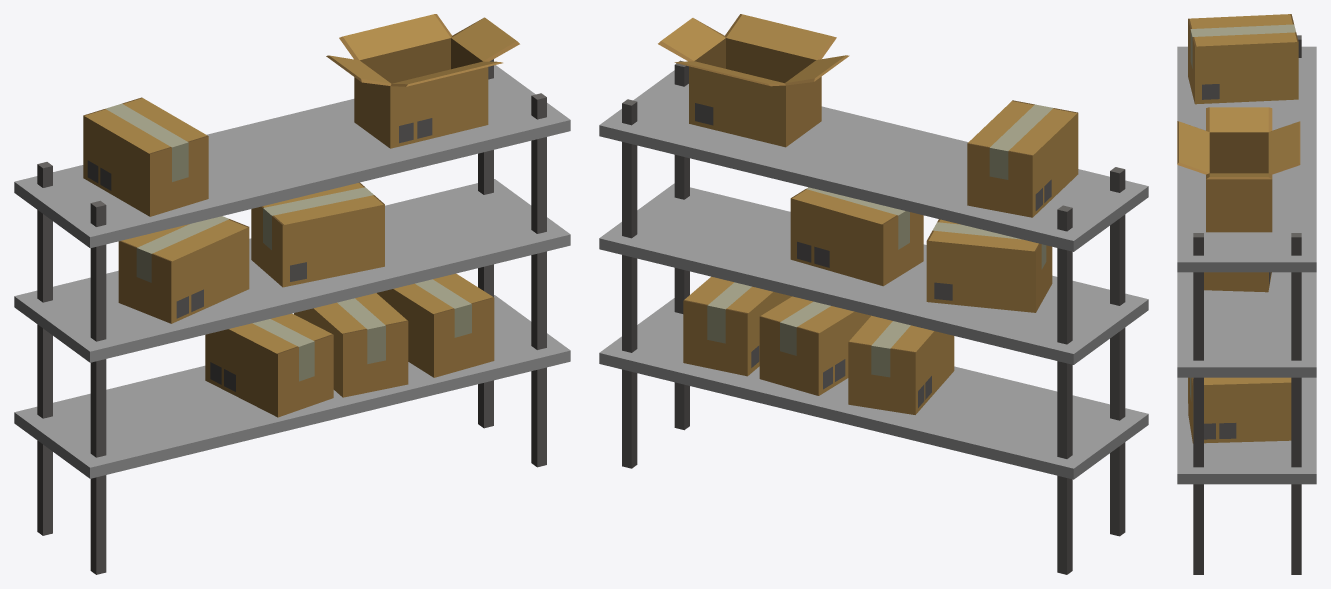
File: Shelf3.FBX
The picture shows the model from 3 angles, left to right: view 1: azimuth 30°, elevation 25°; view 2: azimuth 150°, elevation 25°; view 3: azimuth 270°, elevation 25°; orthographic projection. The views are drawn at different scales.
Parts seen in each view (by area): view 1: SM_Shelf_03; view 2: SM_Shelf_03; view 3: SM_Shelf_03.
Part boxes in pixels (x1,y1,x2,y2): SM_Shelf_03: (14, 14, 570, 574); SM_Shelf_03: (599, 14, 1148, 574); SM_Shelf_03: (1177, 14, 1316, 574).
Size of the model in its own units: 199 by 168 by 54.62.
